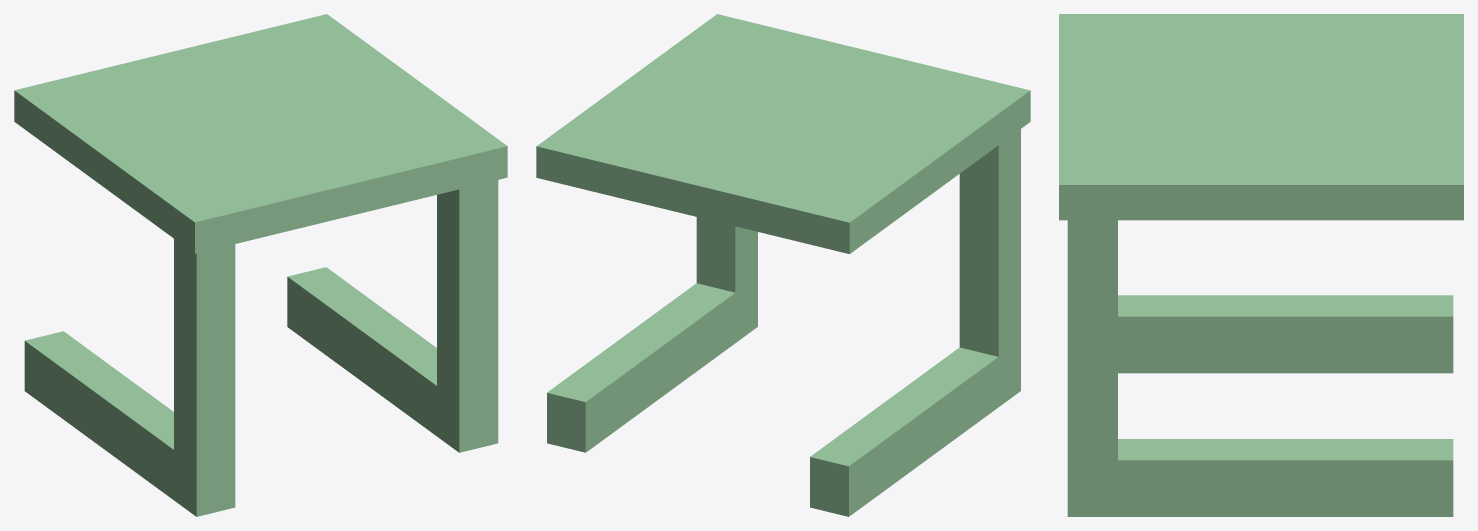
The model's file is Table.fbx.
The picture shows the model from 3 angles, left to right: view 1: azimuth 30°, elevation 25°; view 2: azimuth 150°, elevation 25°; view 3: azimuth 270°, elevation 25°; orthographic projection. The views are drawn at different scales.
Visible parts, largest first — view 1: Cube; view 2: Cube; view 3: Cube.
Boxes of the visible parts, <box> form: Cube: <box>14,14,507,516</box>; Cube: <box>536,14,1030,516</box>; Cube: <box>1059,14,1463,516</box>.
Bounding box in the file's own units: 67.63 × 61.72 × 67.63.
